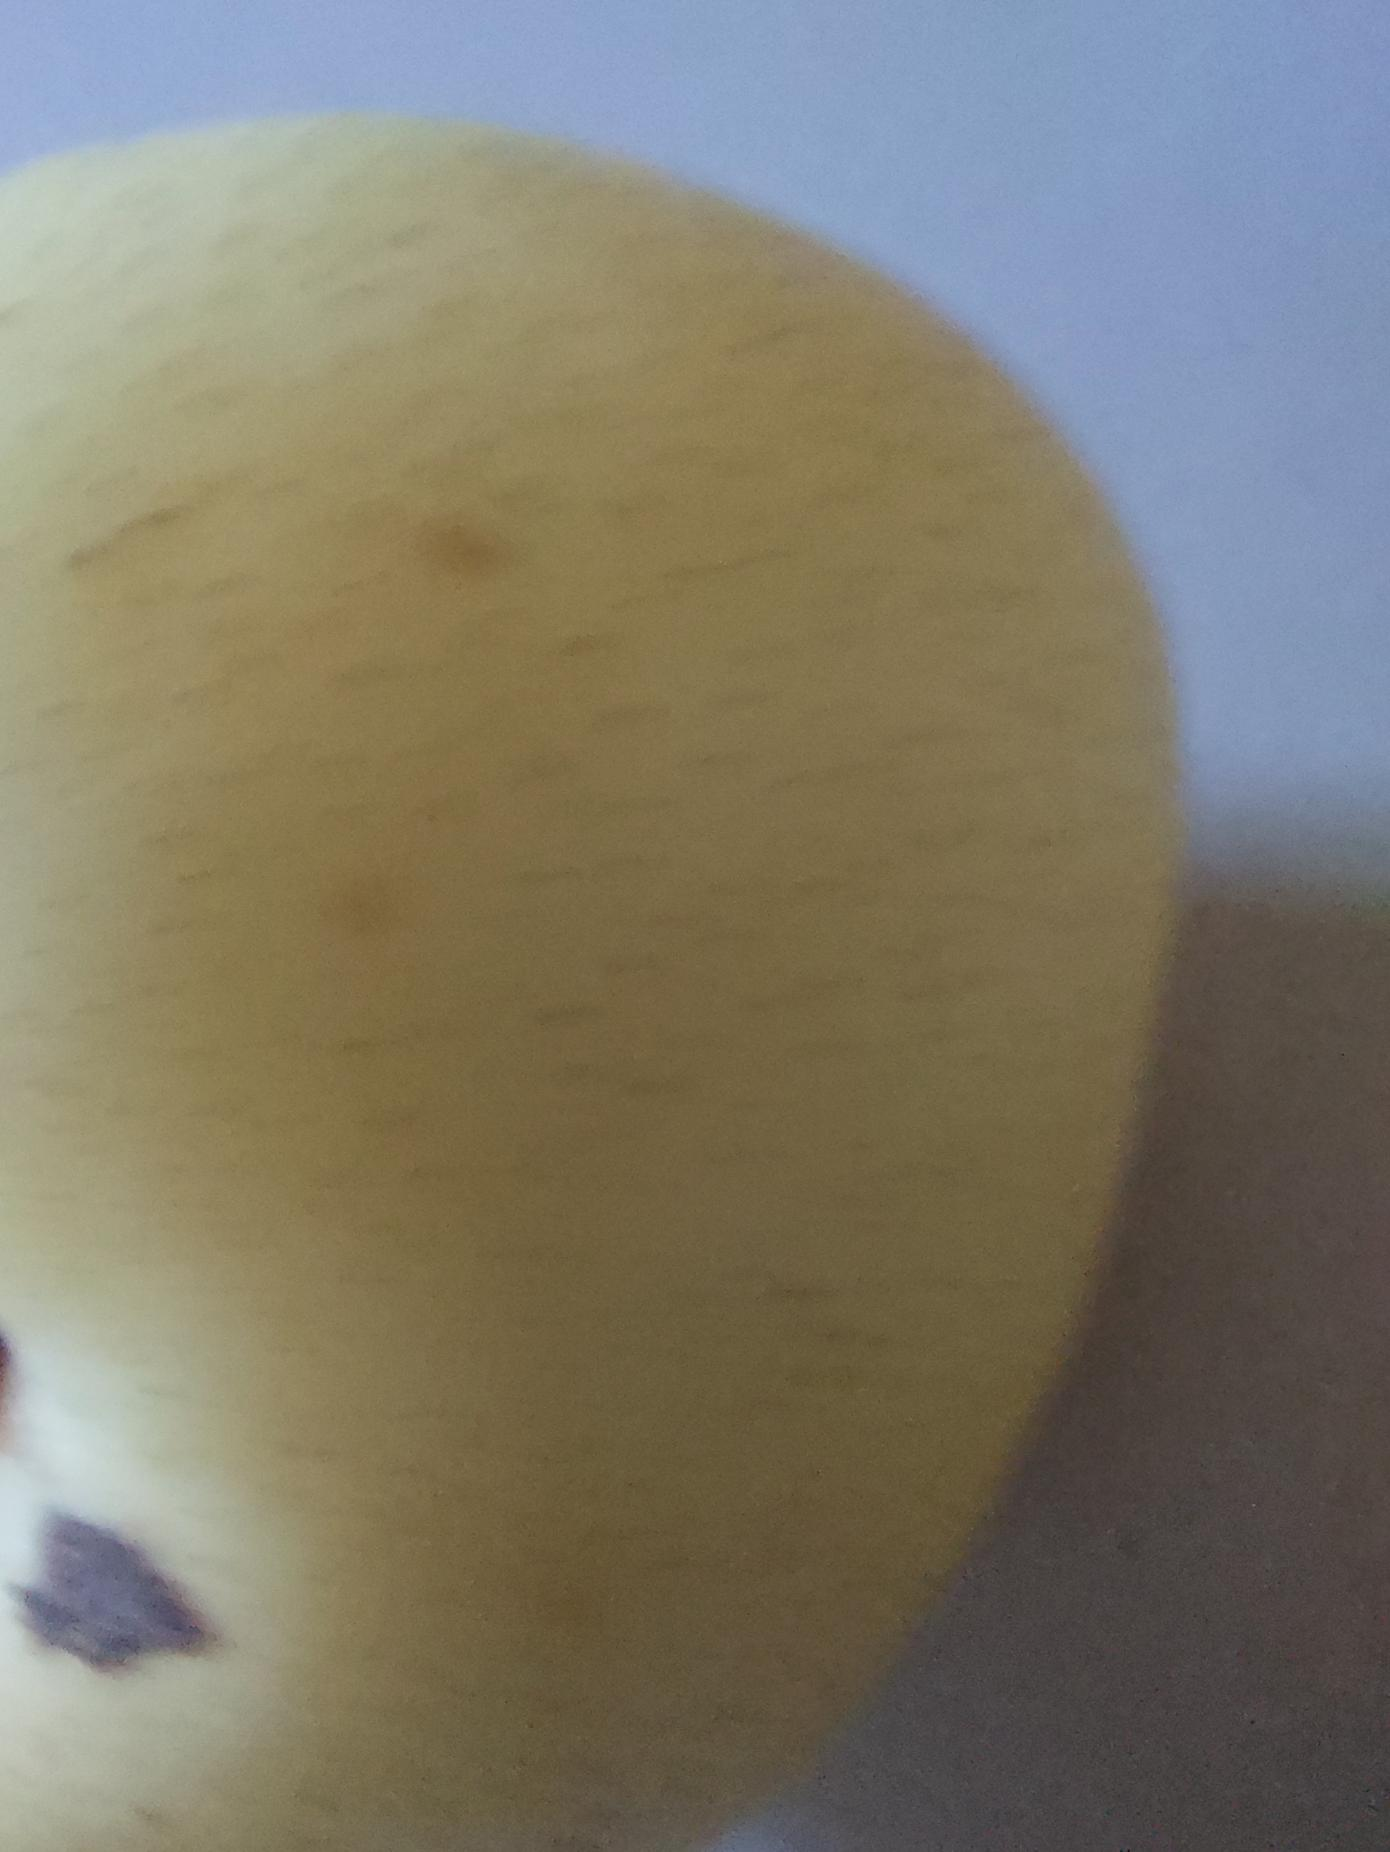Good Pear: (0, 85, 1202, 1852)
